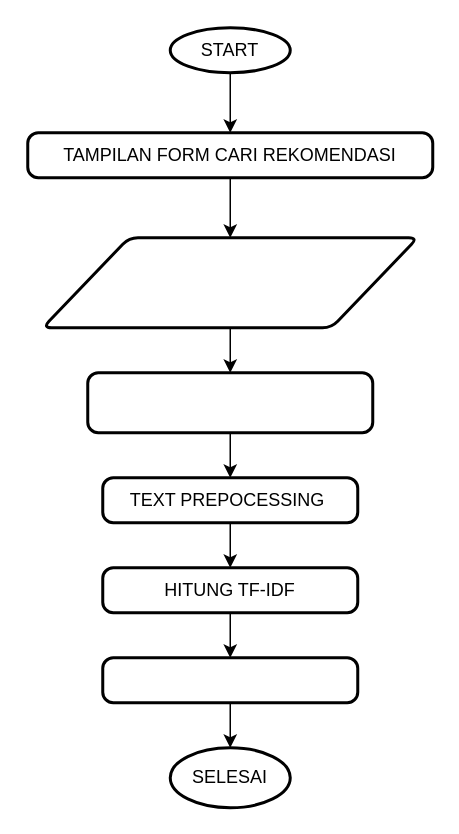
This 459x834 diagram has some shape labels left out. The centre of each missing label's shape, as x and y in pixels:
HASIL REKOMENDASI: pixel 229 680
INPUT KEBUTUHAN,HARGA, UKURAN/KAPASITAS: pixel 229 282
MENDAPATKAN QUERY TERM: pixel 230 402
